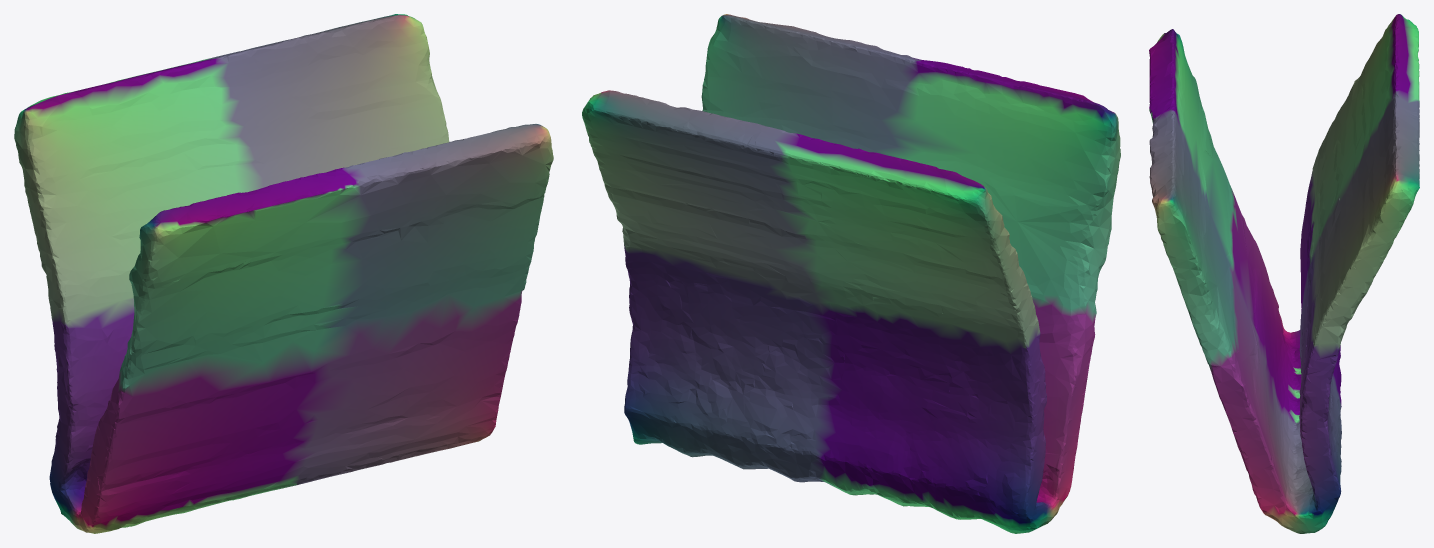
File: paper-2.off.obj
The picture shows the model from 3 angles, left to right: view 1: azimuth 30°, elevation 25°; view 2: azimuth 150°, elevation 25°; view 3: azimuth 270°, elevation 25°; orthographic projection. The views are drawn at different scales.
Size of the model in its own units: 1.24 by 1.15 by 0.7974.
